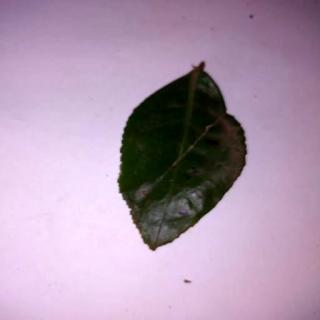Bird Eye Spot: (121, 62, 248, 251)
